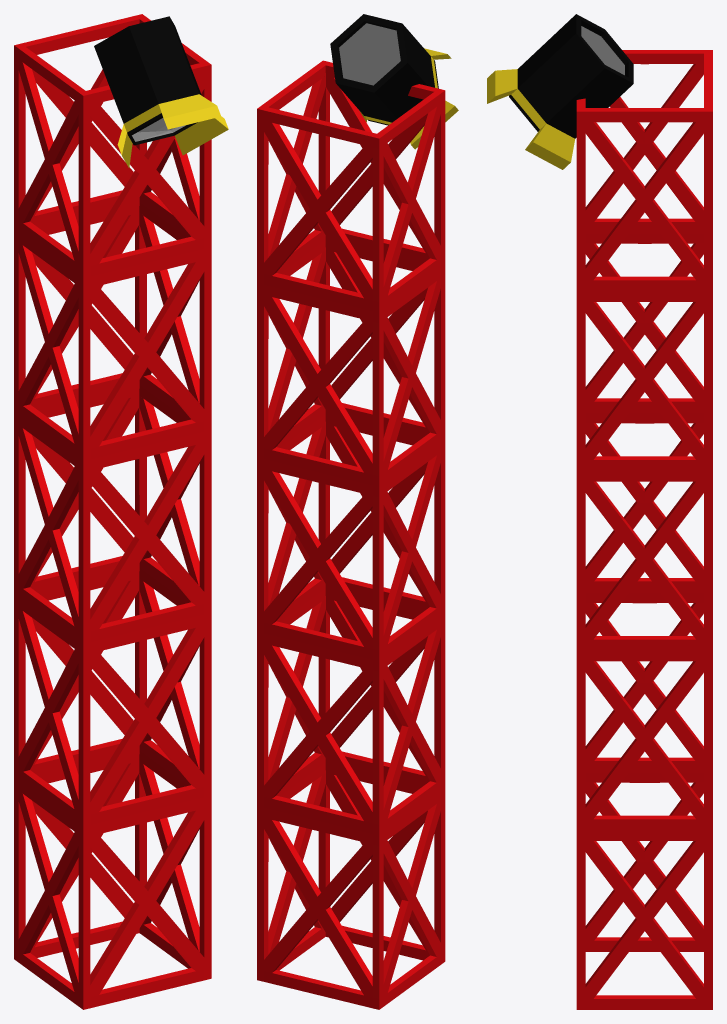
The model's file is Andamio_Stage_Model.fbx.
The picture shows the model from 3 angles, left to right: view 1: azimuth 30°, elevation 25°; view 2: azimuth 150°, elevation 25°; view 3: azimuth 270°, elevation 25°; orthographic projection. The views are drawn at different scales.
Visible parts, largest first — view 1: Andamio.001; view 2: Andamio.001; view 3: Andamio.001.
Boxes of the visible parts, bbox=[...] form: Andamio.001: bbox=[14, 14, 228, 1009]; Andamio.001: bbox=[257, 14, 458, 1009]; Andamio.001: bbox=[487, 14, 712, 1009].
Size of the model in its own units: 171 by 1244 by 266.
